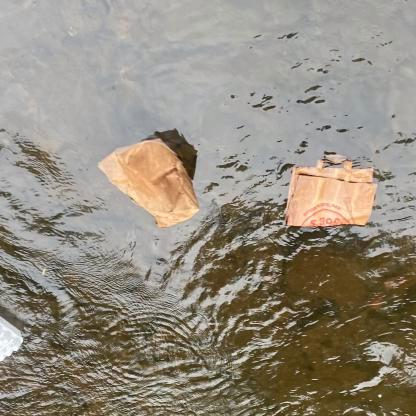Plastic: (0, 312, 25, 363)
Trash: (98, 134, 198, 230), (284, 152, 377, 229)
